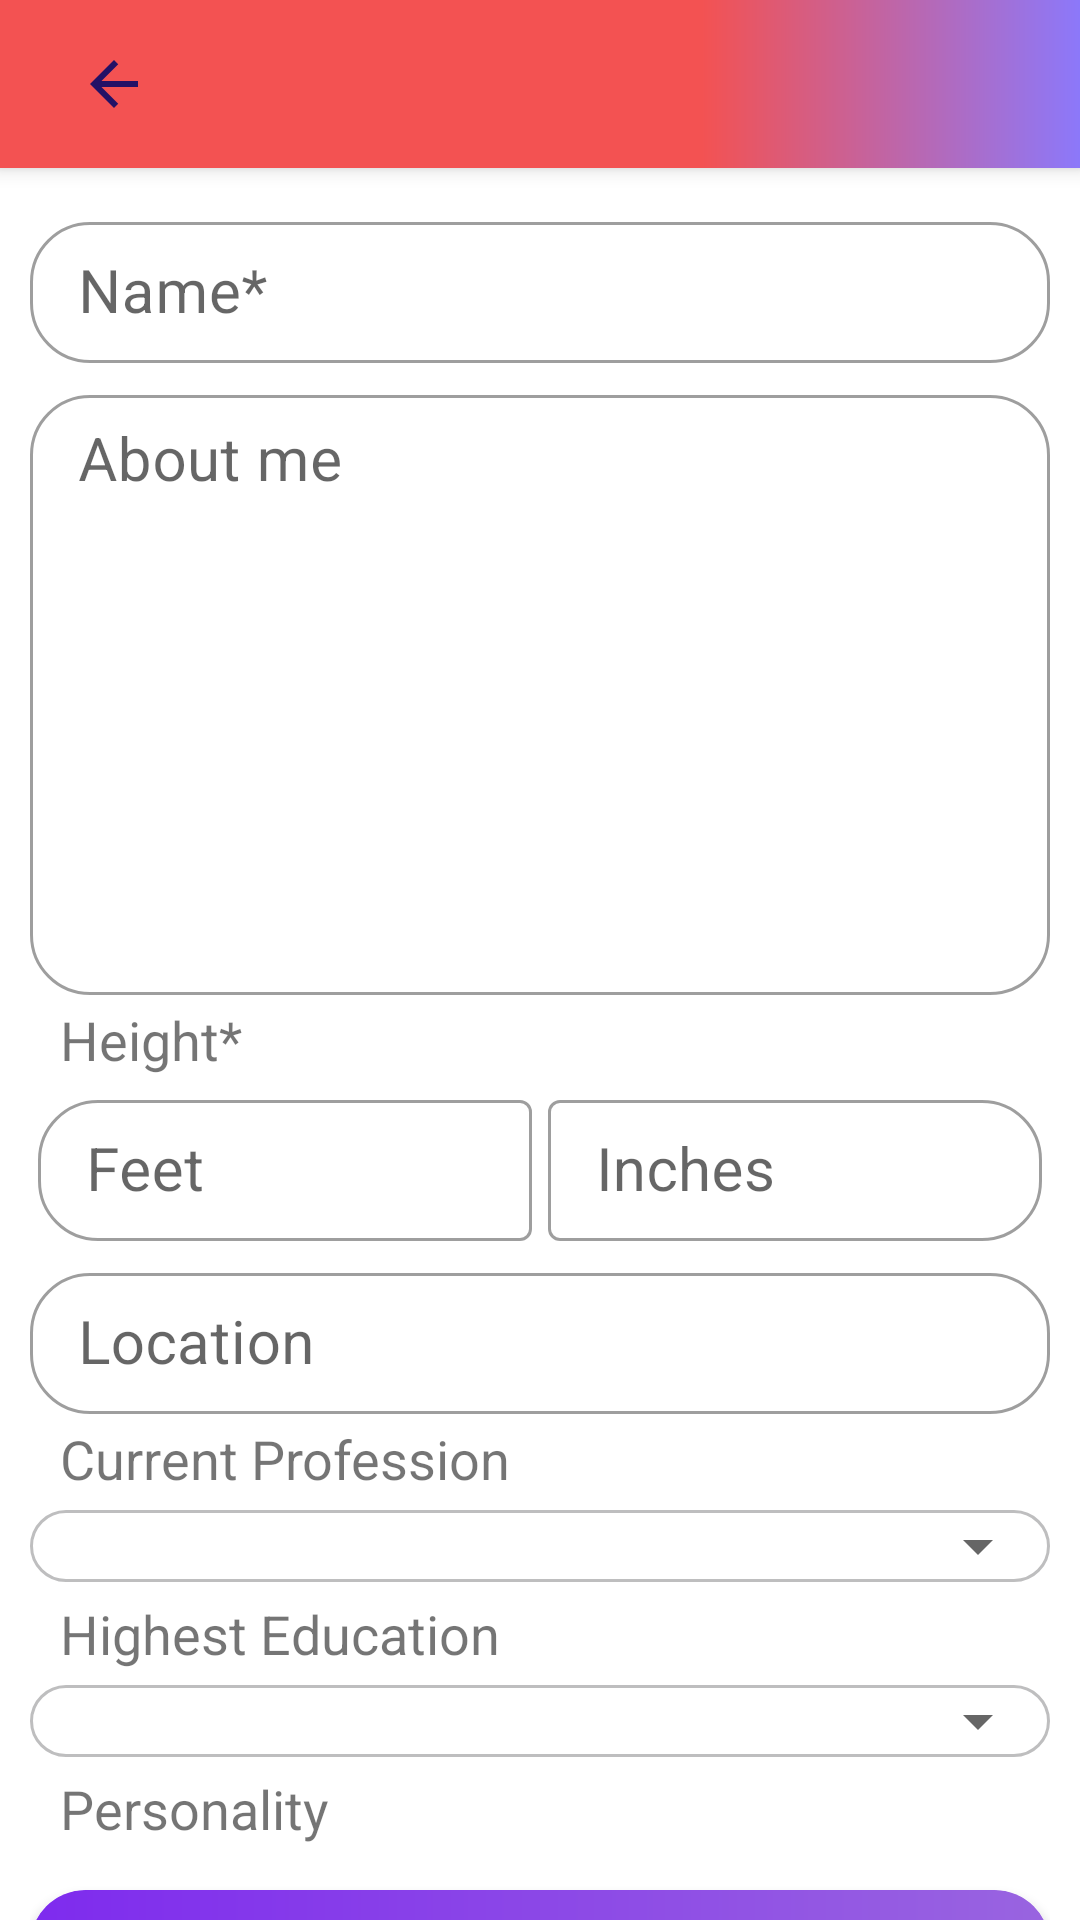

Icons on this 1080×1920 Android screen, each with its box as (x1, y1, x2, y2):
arrow back: (90, 60, 138, 108)
